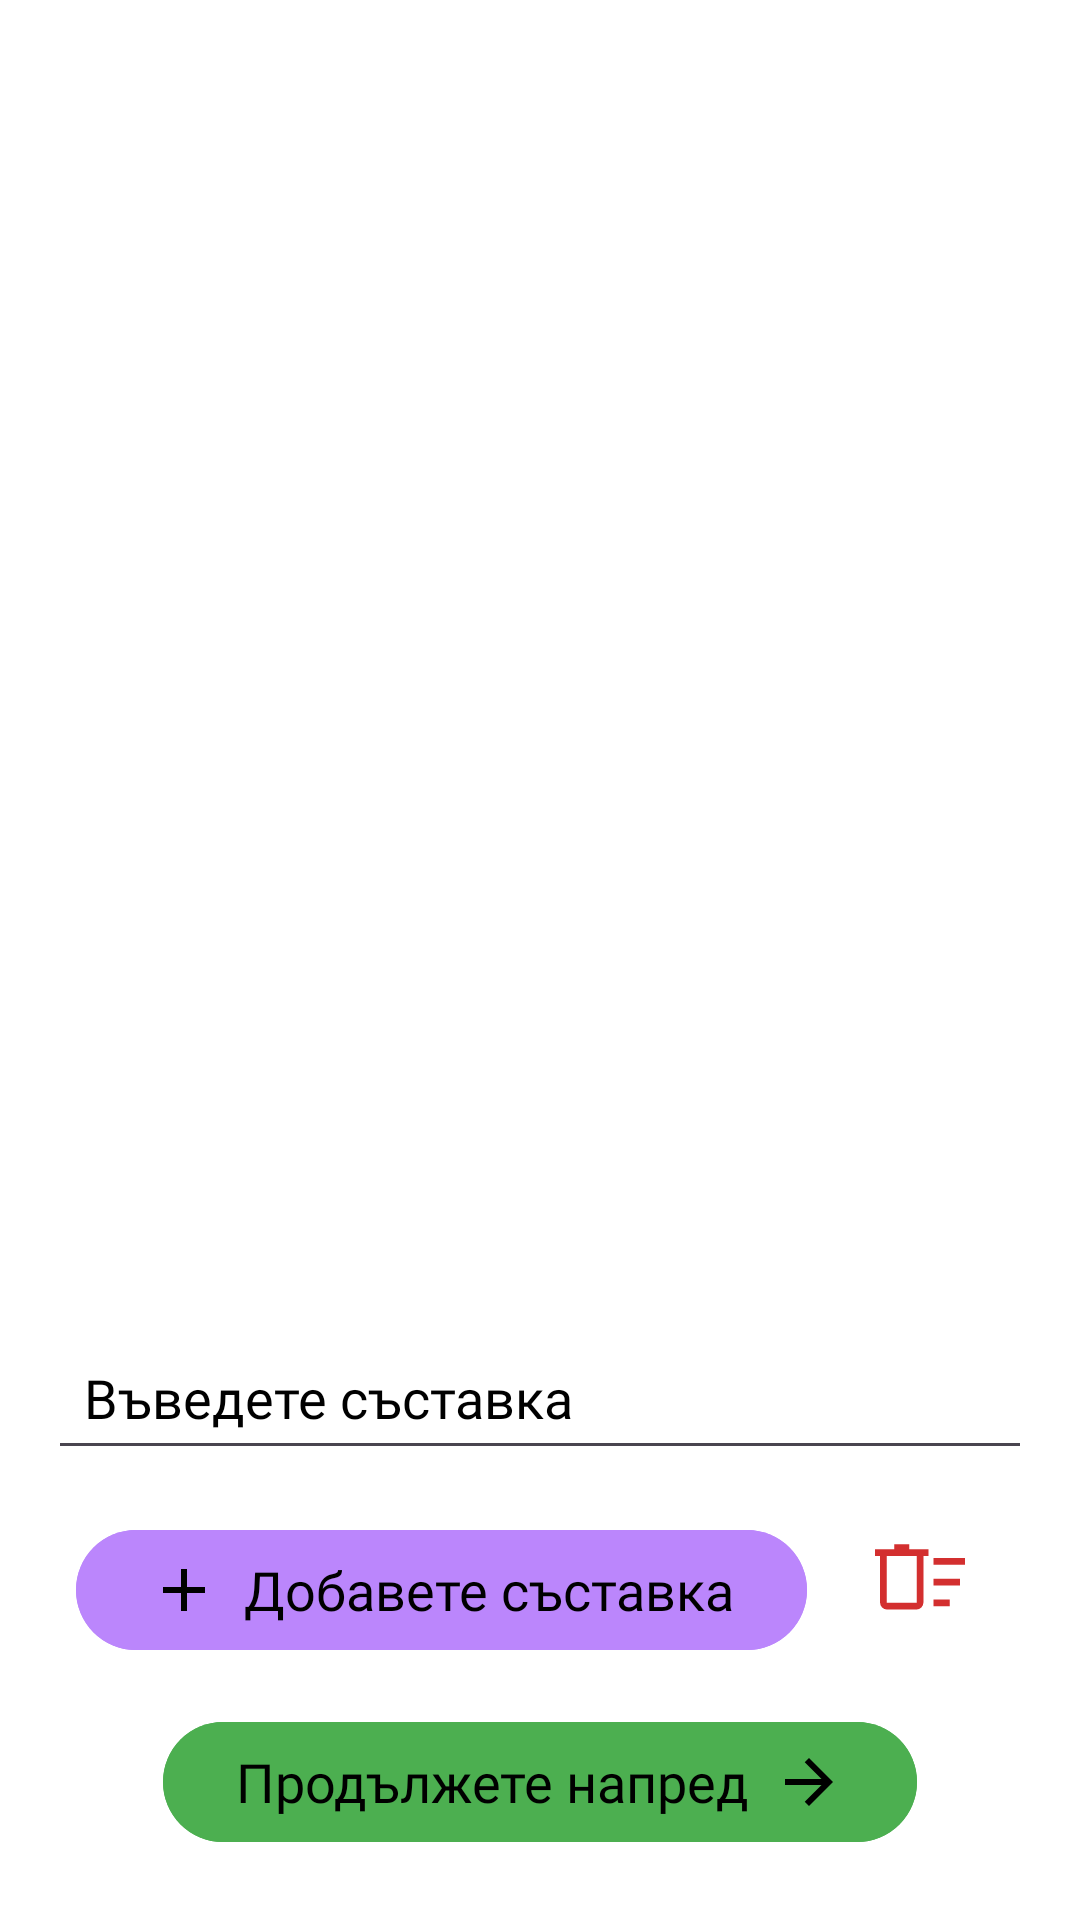

Icon bounding boxes for this 1080*1920 phone screenshot, format (x1, y1, x2, y2):
Премахни всички съставки: (875, 1544, 965, 1610)
